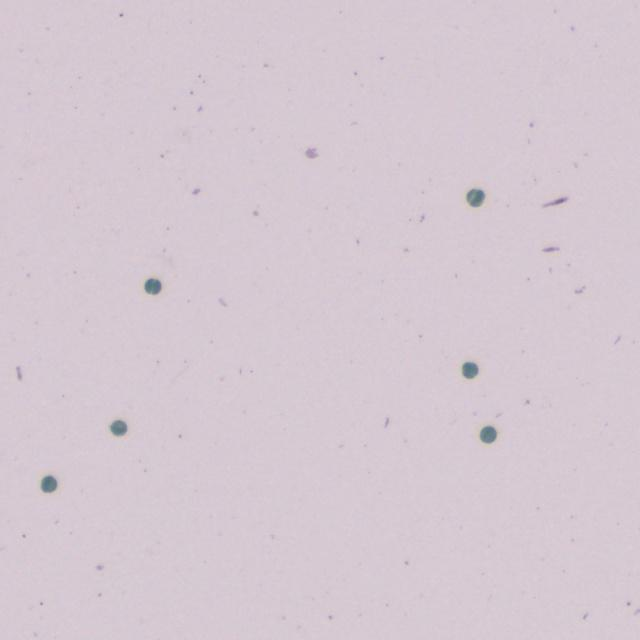non_viable: (466, 188, 484, 207), (40, 475, 57, 492), (144, 278, 161, 294), (480, 426, 496, 443), (462, 362, 478, 378), (110, 420, 127, 435)
